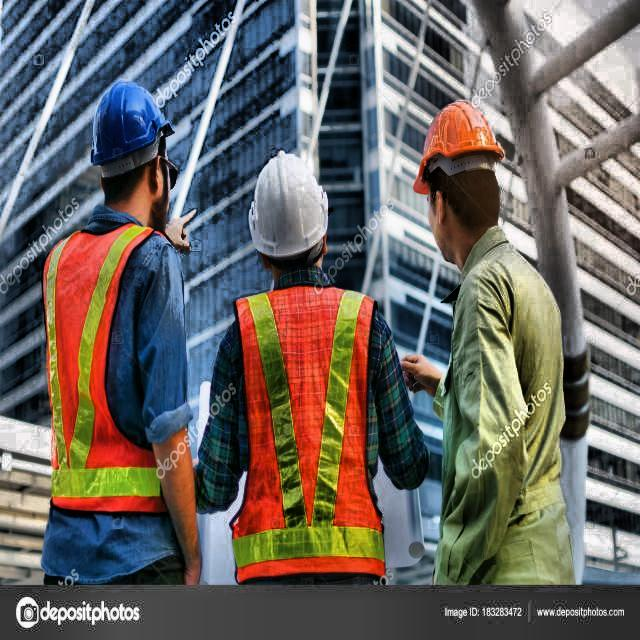person: (401, 84, 584, 574), (211, 149, 415, 574), (41, 79, 204, 574)
